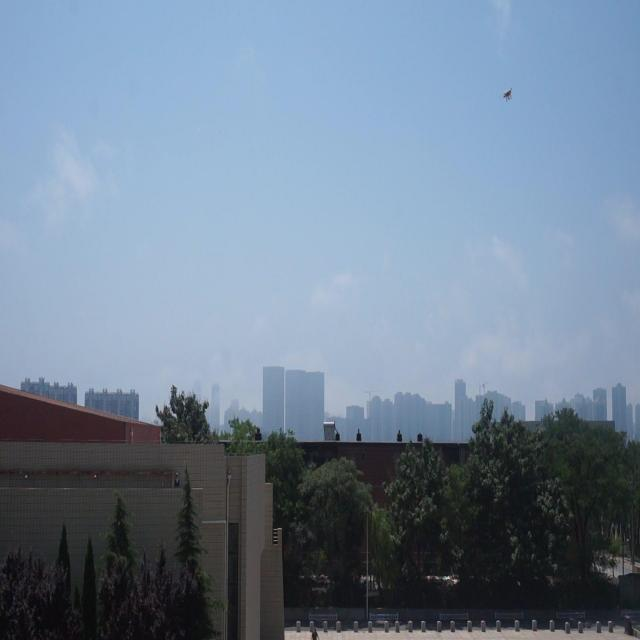UAV: (501, 86, 514, 102)
